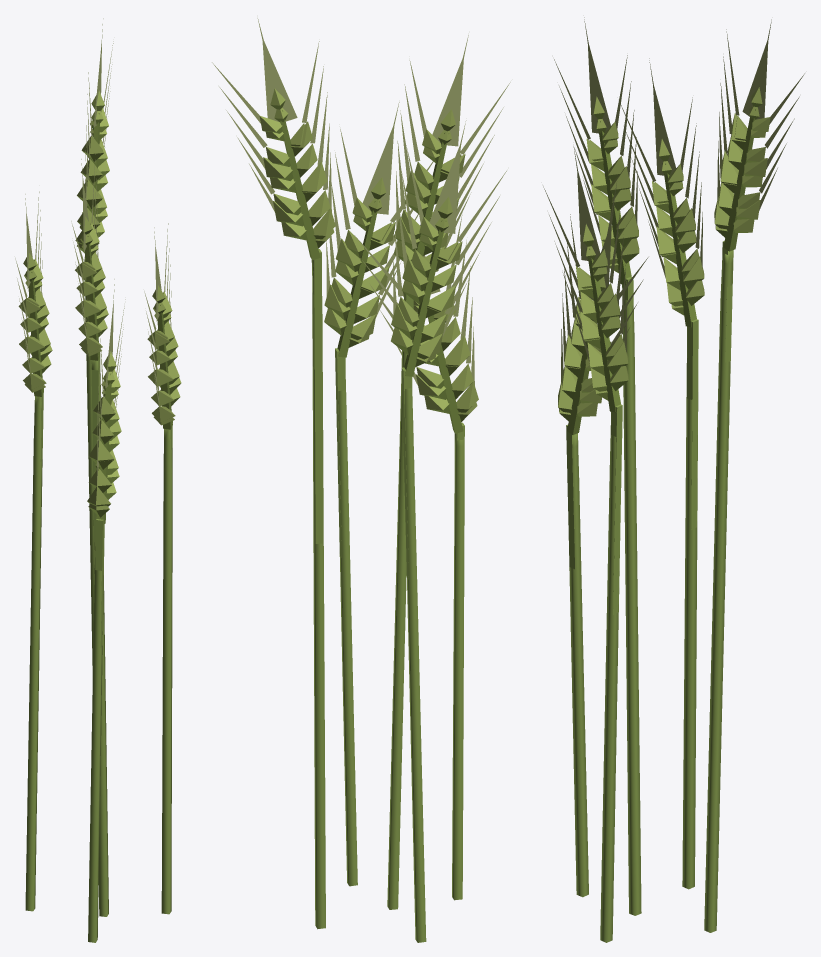
Rendered from wheat_forest_green_top.glb.
The picture shows the model from 3 angles, left to right: view 1: azimuth 30°, elevation 25°; view 2: azimuth 150°, elevation 25°; view 3: azimuth 270°, elevation 25°; orthographic projection. The views are drawn at different scales.
Visible parts, largest first — view 1: body_nl, body__far, ear_nl, ear_nh; view 2: body_nl, body__far, ear_nl, ear_nh; view 3: body_nl, body__far, ear_nl, ear_nh.
Boxes of the visible parts, x1,y1,x2,y2 form: body_nl: (25,295,172,942); body__far: (18,44,181,647); ear_nl: (20,111,180,517); ear_nh: (15,18,171,485); body_nl: (311,260,464,942); body__far: (259,37,478,579); ear_nl: (265,107,477,421); ear_nh: (212,18,510,385); body_nl: (568,250,733,942); body__far: (558,39,770,614); ear_nl: (559,105,765,421); ear_nh: (543,17,804,381).
Bounding box in the file's own units: 3.8 × 16.42 × 4.24.
